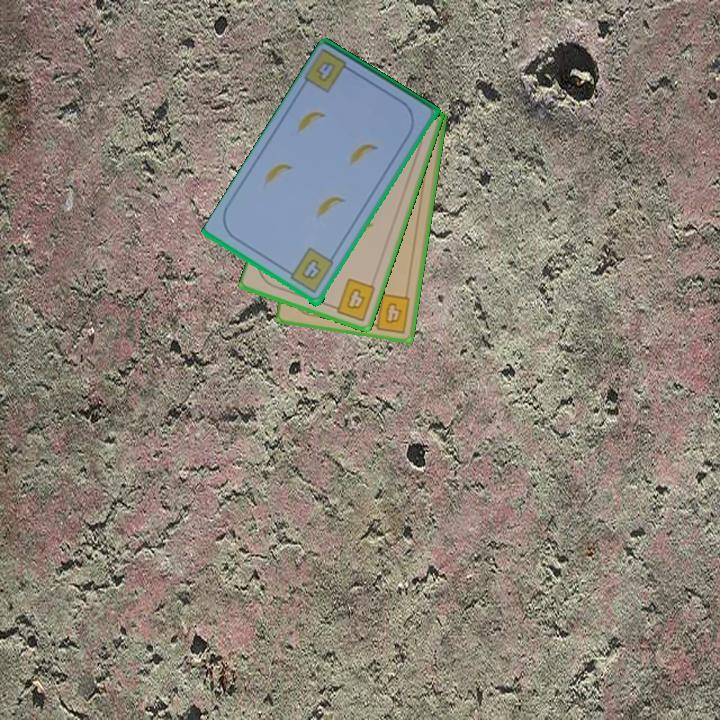4b: (302, 46, 358, 97), (283, 245, 337, 297), (327, 275, 379, 324), (366, 290, 413, 336)
